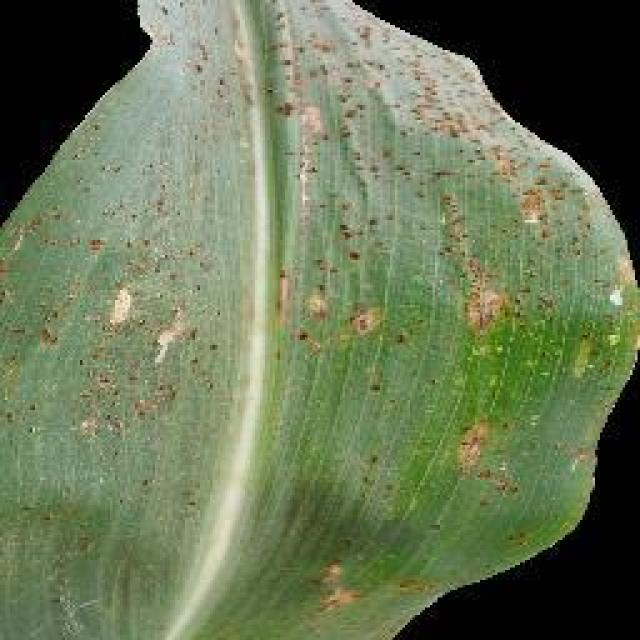Corn Common Rust: (68, 125, 557, 603)
